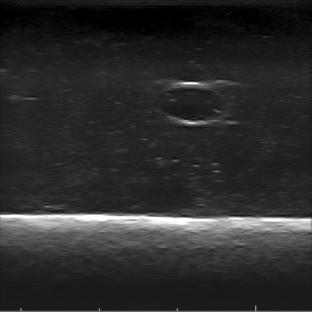vessel: (159, 81, 224, 126)
